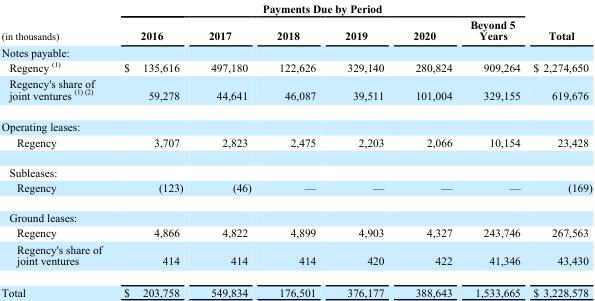table: (0, 1, 591, 298)
table column: (0, 1, 112, 298), (112, 1, 195, 298), (195, 1, 263, 298), (329, 1, 397, 298), (263, 1, 329, 298), (460, 1, 526, 298), (526, 1, 591, 298), (397, 1, 460, 298)
table column header: (0, 1, 591, 43)
table projected row header: (0, 110, 591, 134), (0, 156, 591, 179), (0, 202, 591, 225), (0, 43, 591, 58)
table row: (0, 240, 591, 276), (0, 75, 591, 110), (0, 15, 591, 43), (0, 110, 591, 134), (0, 156, 591, 179), (0, 179, 591, 202), (0, 202, 591, 225), (0, 134, 591, 156), (0, 276, 591, 298), (0, 58, 591, 75), (0, 43, 591, 58), (0, 225, 591, 240), (0, 1, 591, 15)
table spanning cell: (112, 1, 526, 15), (0, 1, 112, 43), (526, 1, 591, 43)
